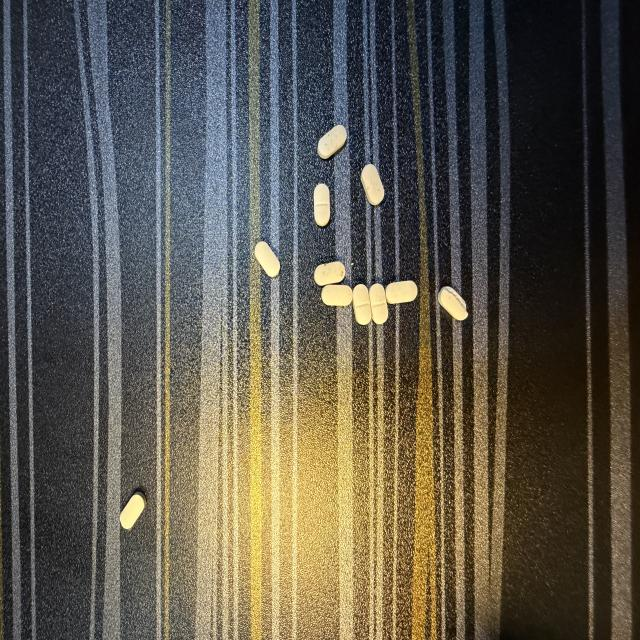pill: (120, 492, 146, 529), (254, 241, 280, 278), (438, 287, 467, 320), (361, 164, 384, 205), (318, 125, 346, 158), (369, 284, 388, 324), (314, 262, 345, 286), (353, 284, 371, 325), (386, 281, 417, 304), (314, 184, 329, 226), (322, 285, 352, 306)
